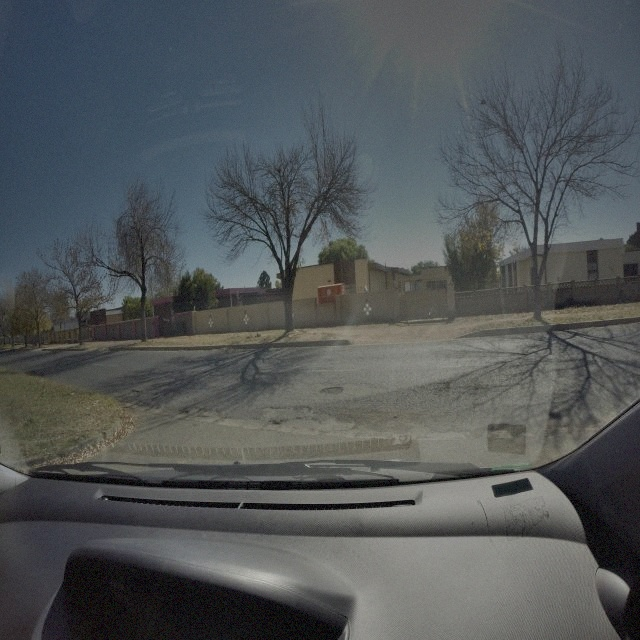pothole: (320, 386, 344, 396), (265, 417, 282, 428)
